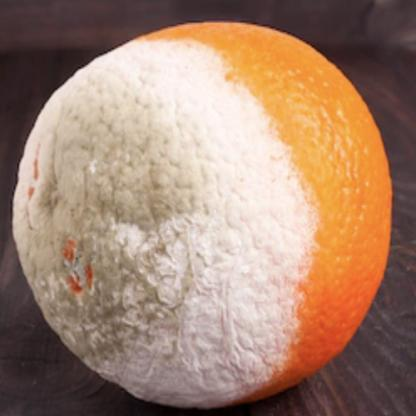rotten: (12, 21, 394, 400)
